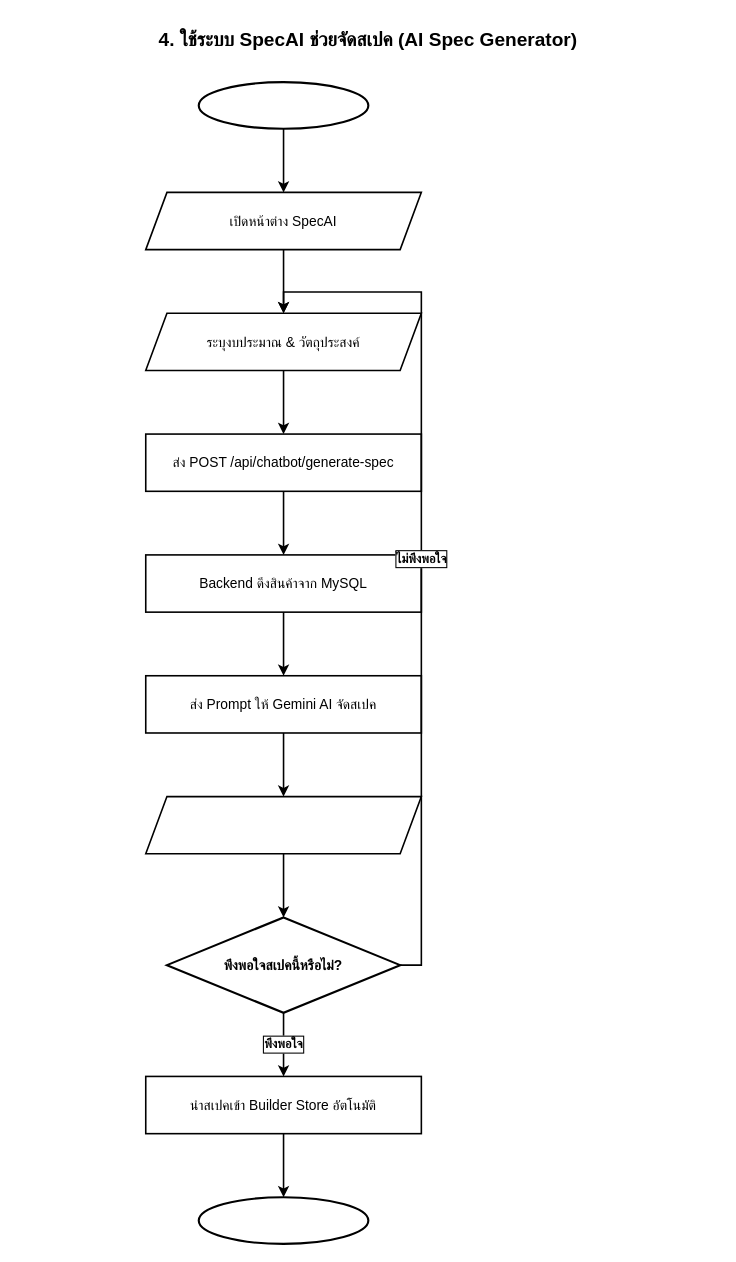
Image size: 736x1262. Some labels were removed from this diagram. Each missing label, with the centre of its shape:
"จบการทำงาน" goes at [283,1220].
"เริ่มต้น" goes at [283,105].
"แสดงสเปคคอมจัดโดย AI (JSON)" goes at [283,824].
